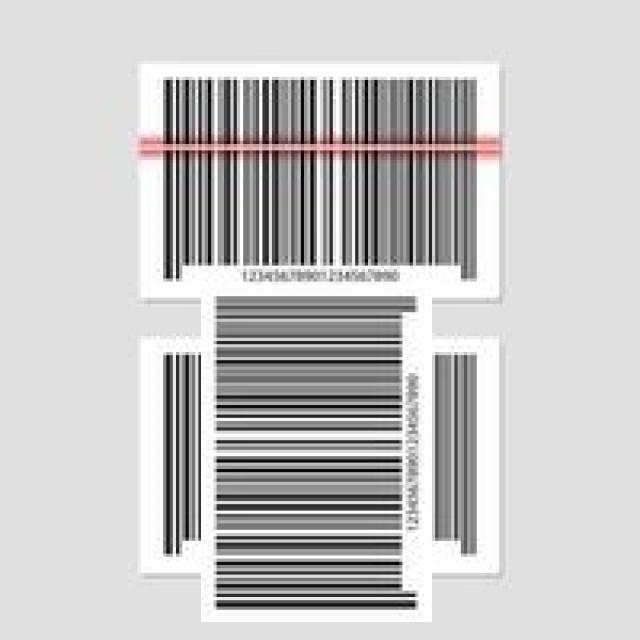Barkod: (135, 64, 487, 294), (176, 314, 458, 597)
